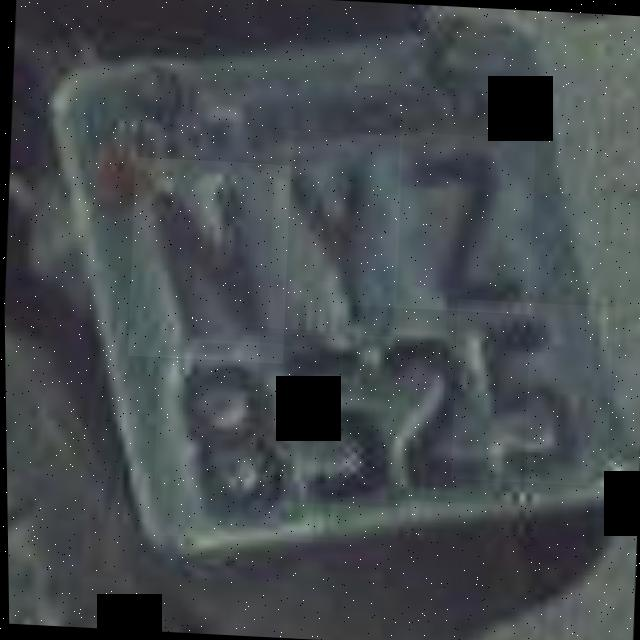2: (334, 305, 531, 507)
5: (447, 300, 615, 488), (250, 328, 417, 508)
8: (148, 340, 321, 544)
N: (125, 157, 292, 366)
Y: (265, 130, 405, 340)
Z: (391, 132, 538, 315)
